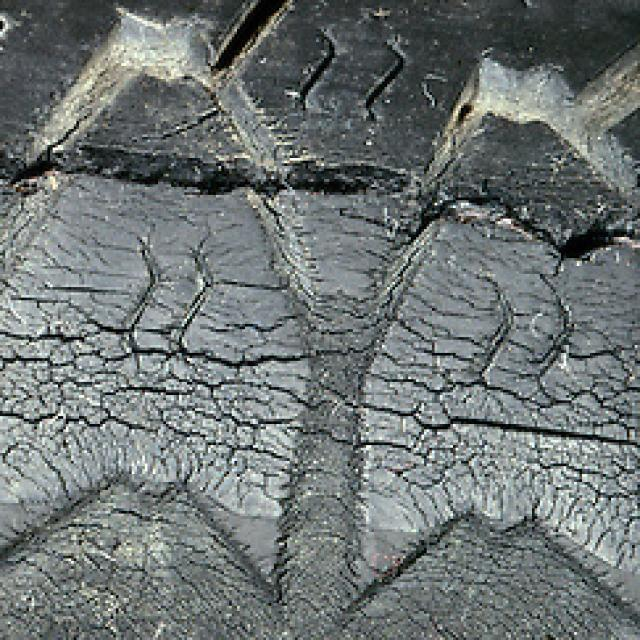Cracks: (0, 64, 639, 638)
